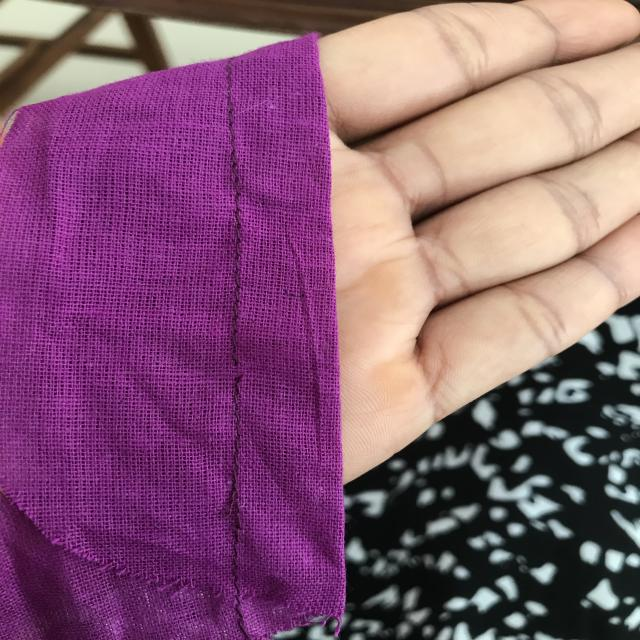good: (218, 165, 264, 315)
